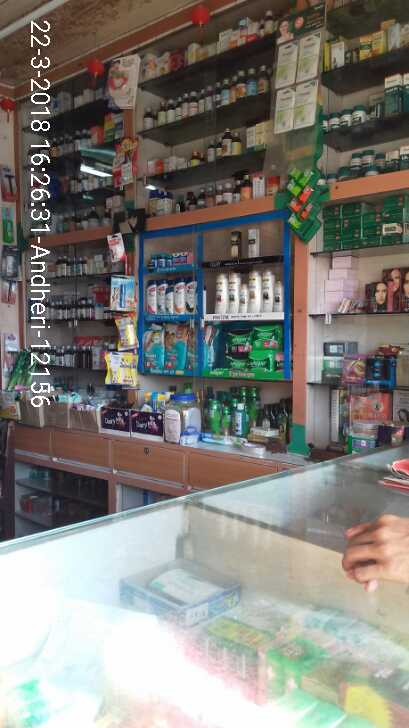vicks: (147, 250, 202, 268)
